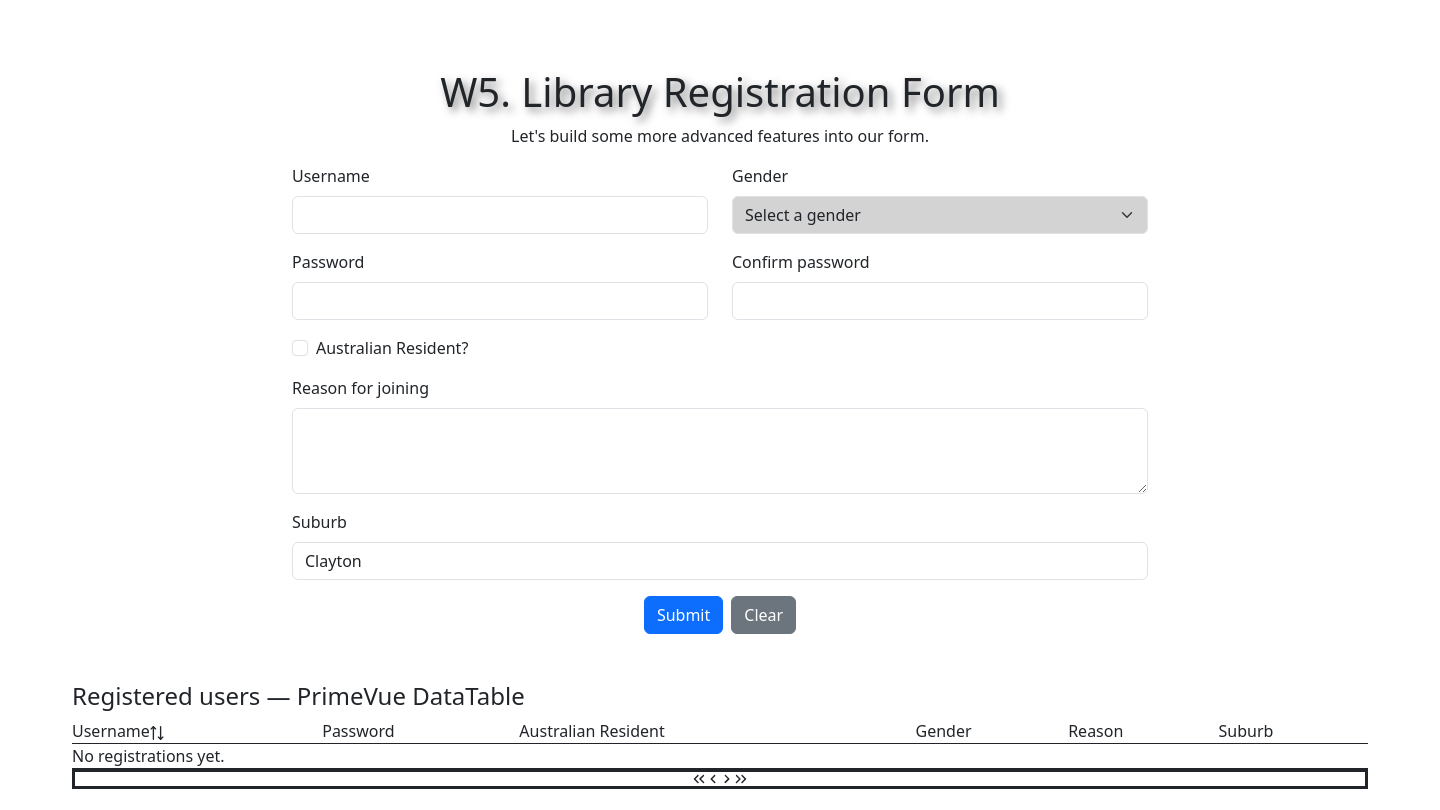
it: LibraryRegistrationForm › shows and clears the Vue username validation message
Type "Di" into the field with id "username".
click(500, 215); type("Di")  # box 292,196 -> 708,234
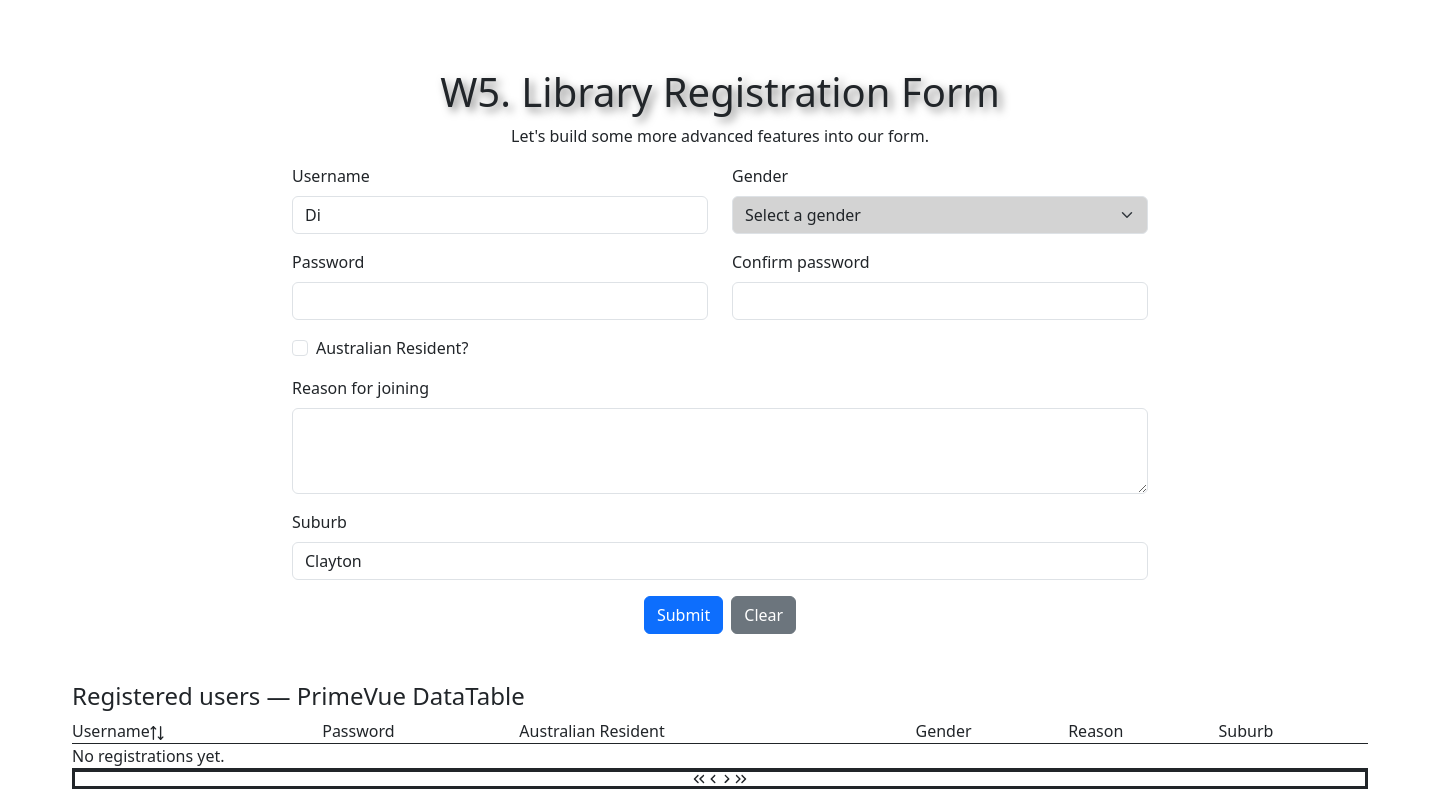
Leave the field with id "username", box 292,196 -> 708,234
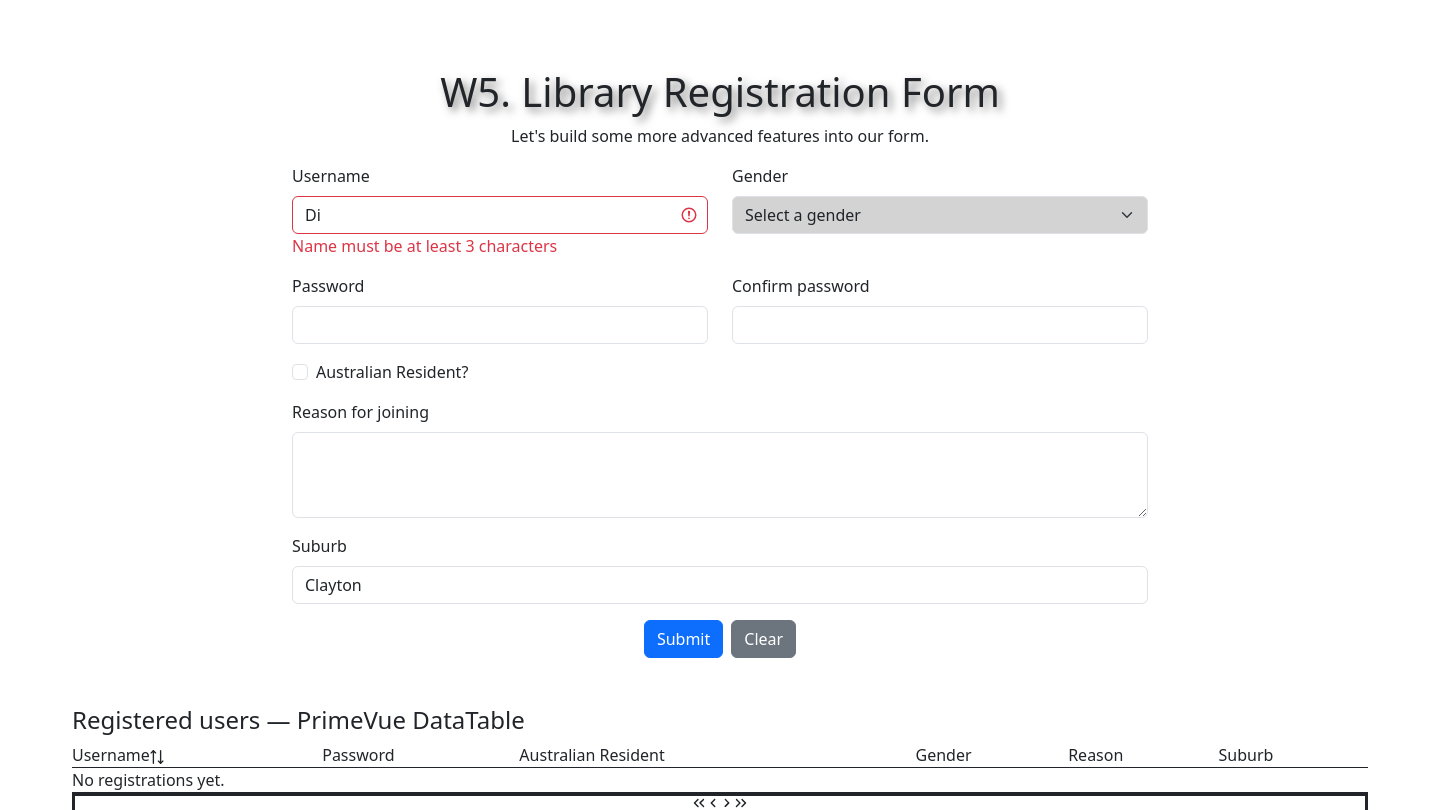
Now the text "Name must be at least 3 characters" is shown, box 292,235 -> 557,257
Replace the text in the field with id "username" with "Dinuo" at [500, 215], box 292,196 -> 708,234
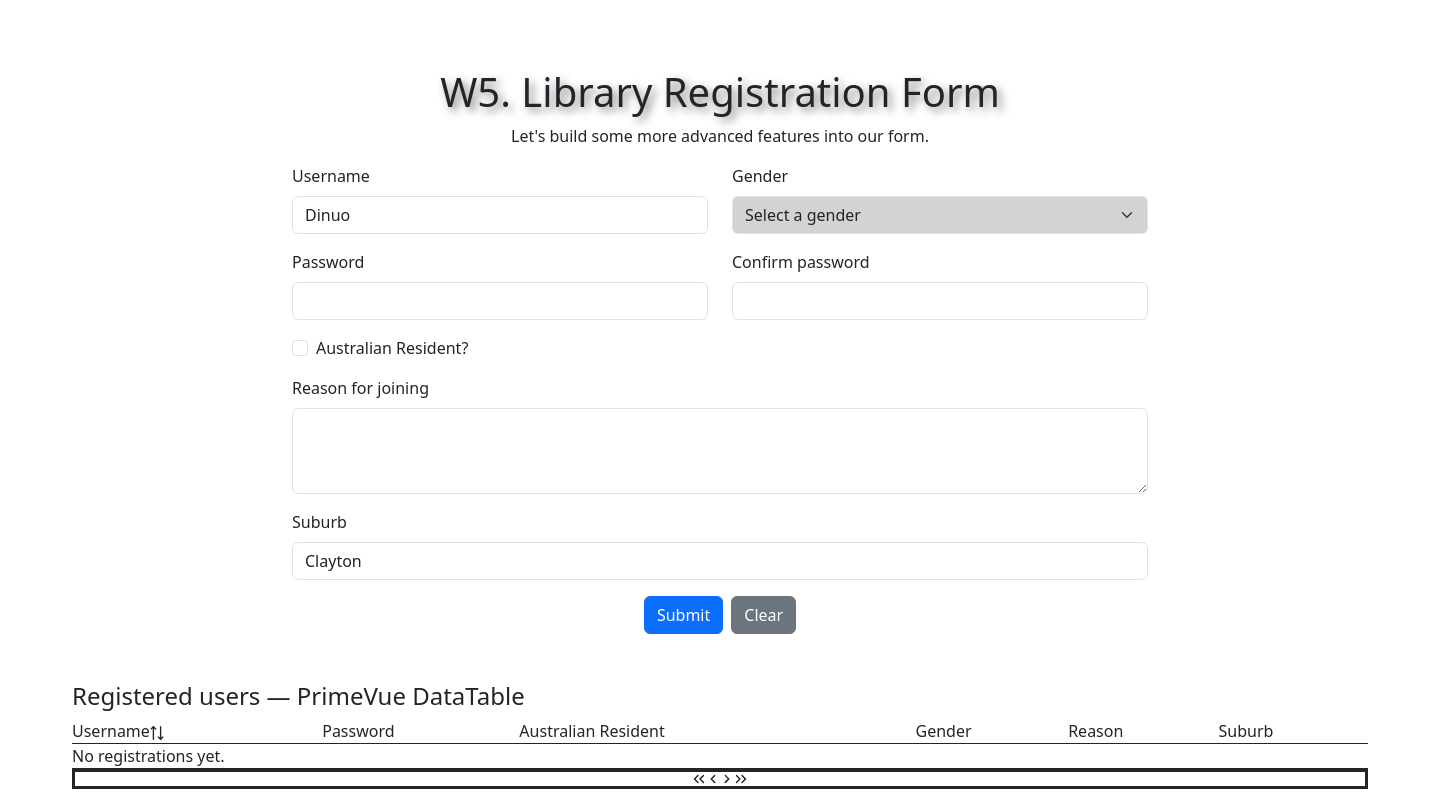
Now the text "Name must be at least 3 characters" is gone
